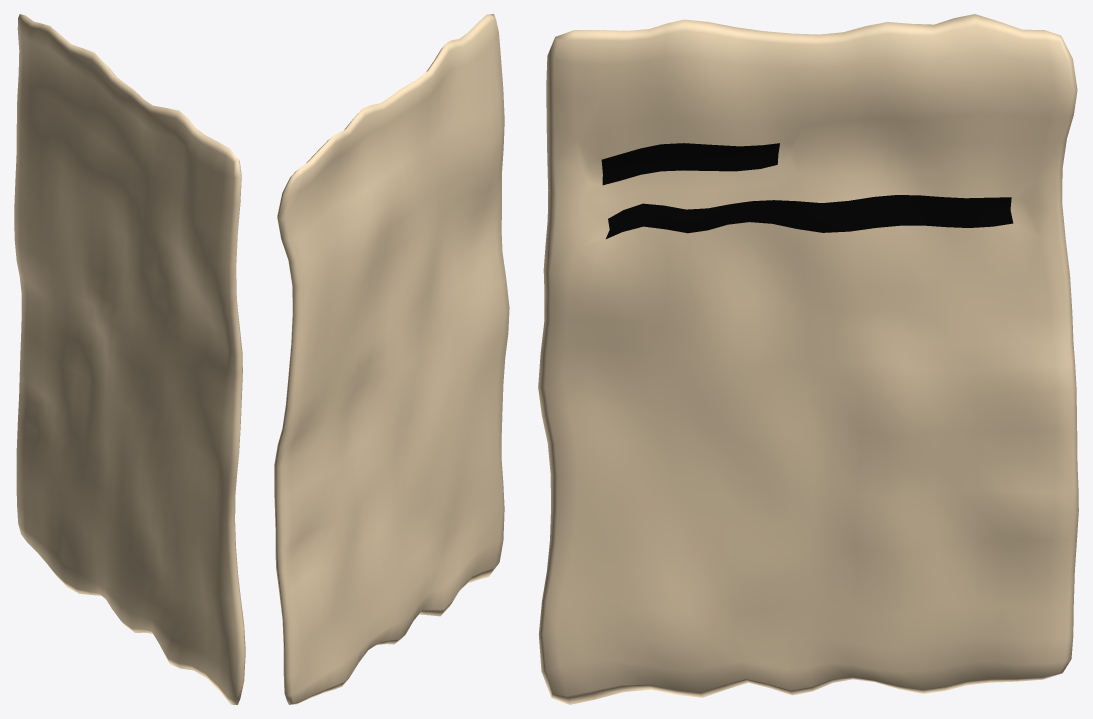
The model's file is Hoja.fbx.
3 renders of one model, left to right at view 1: azimuth 30°, elevation 25°; view 2: azimuth 150°, elevation 25°; view 3: azimuth 270°, elevation 25°, orthographic. The views are drawn at different scales.
Parts seen in each view (by area): view 1: Plane; view 2: Plane; view 3: Plane.
Part boxes in pixels (<box>): Plane: <box>14,14,245,704</box>; Plane: <box>274,14,509,704</box>; Plane: <box>538,14,1078,704</box>.
Size of the model in its own units: 23.91 by 428 by 308.
